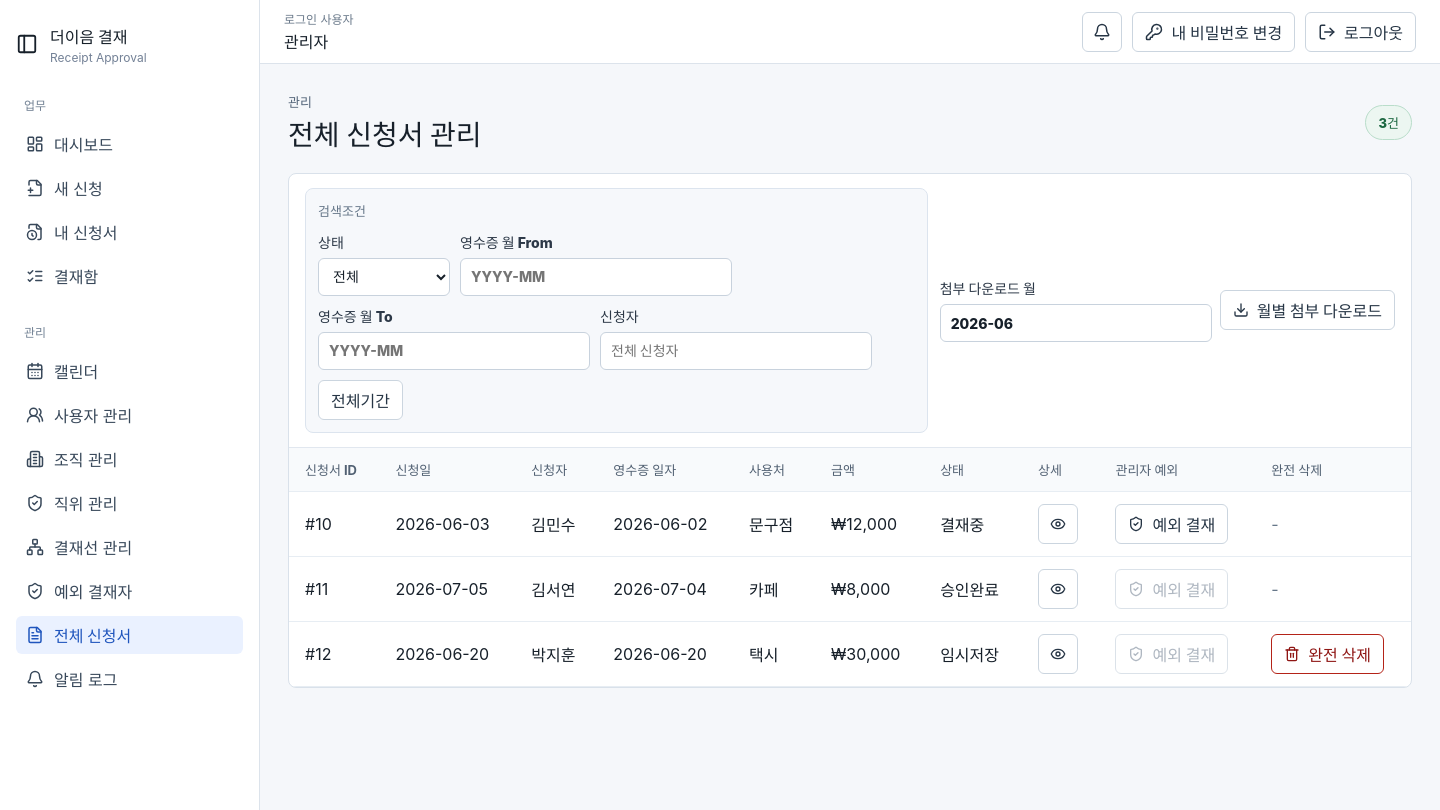
Scenario: AdminApplicationsPage › 전체 신청서를 영수증 월 범위와 신청자별로 필터링한다
This screenshot has width=1440, height=810.
Expected: the element "검색조건" is shown, [318,203,366,219]
Expected: the text "문구점" is shown, [733,491,815,556]
In the field labelled "영수증 월 From": [596, 277] box [460,258,732,296], type "20260699"
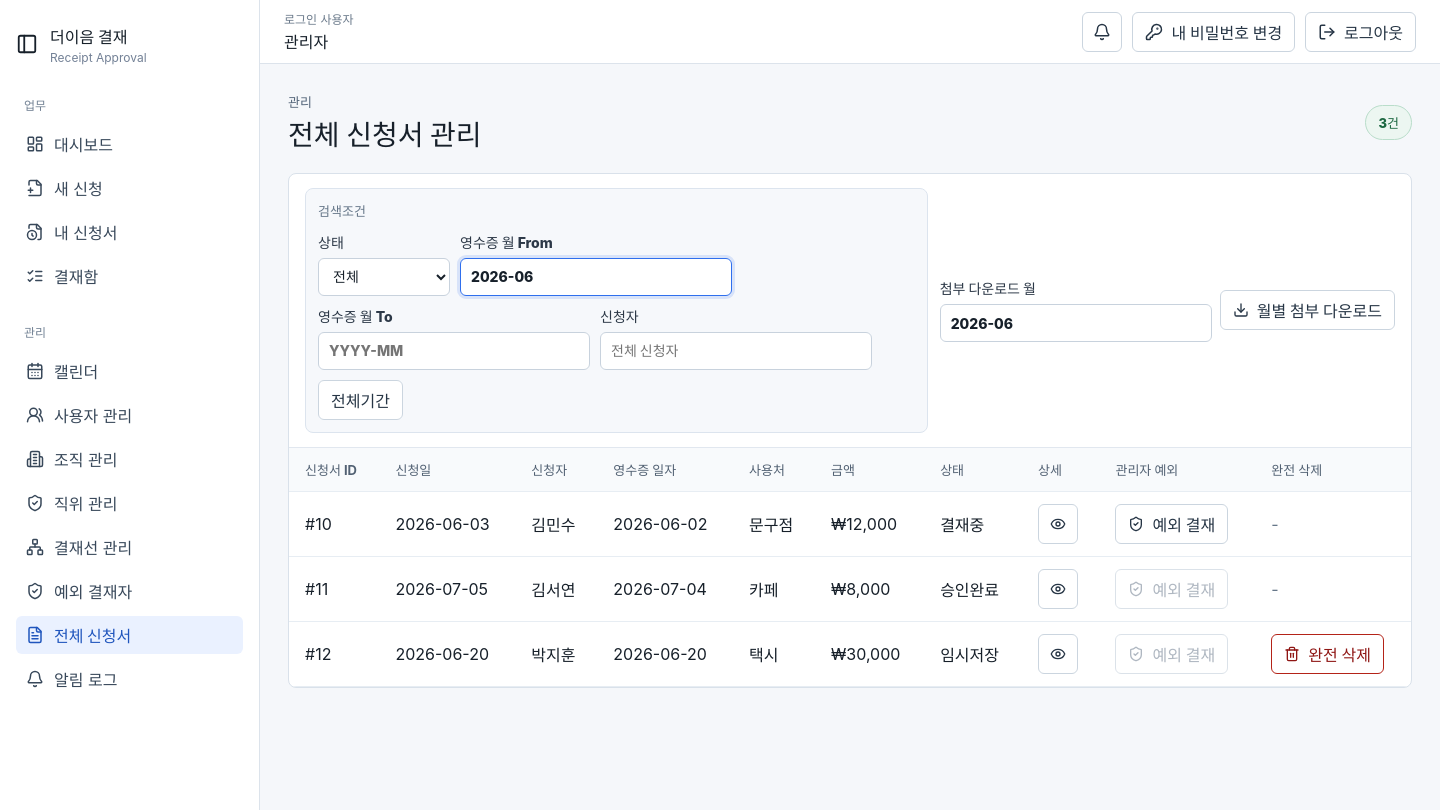
In the field labelled "영수증 월 To": [454, 351] box [318,332,590,370], type "202606"
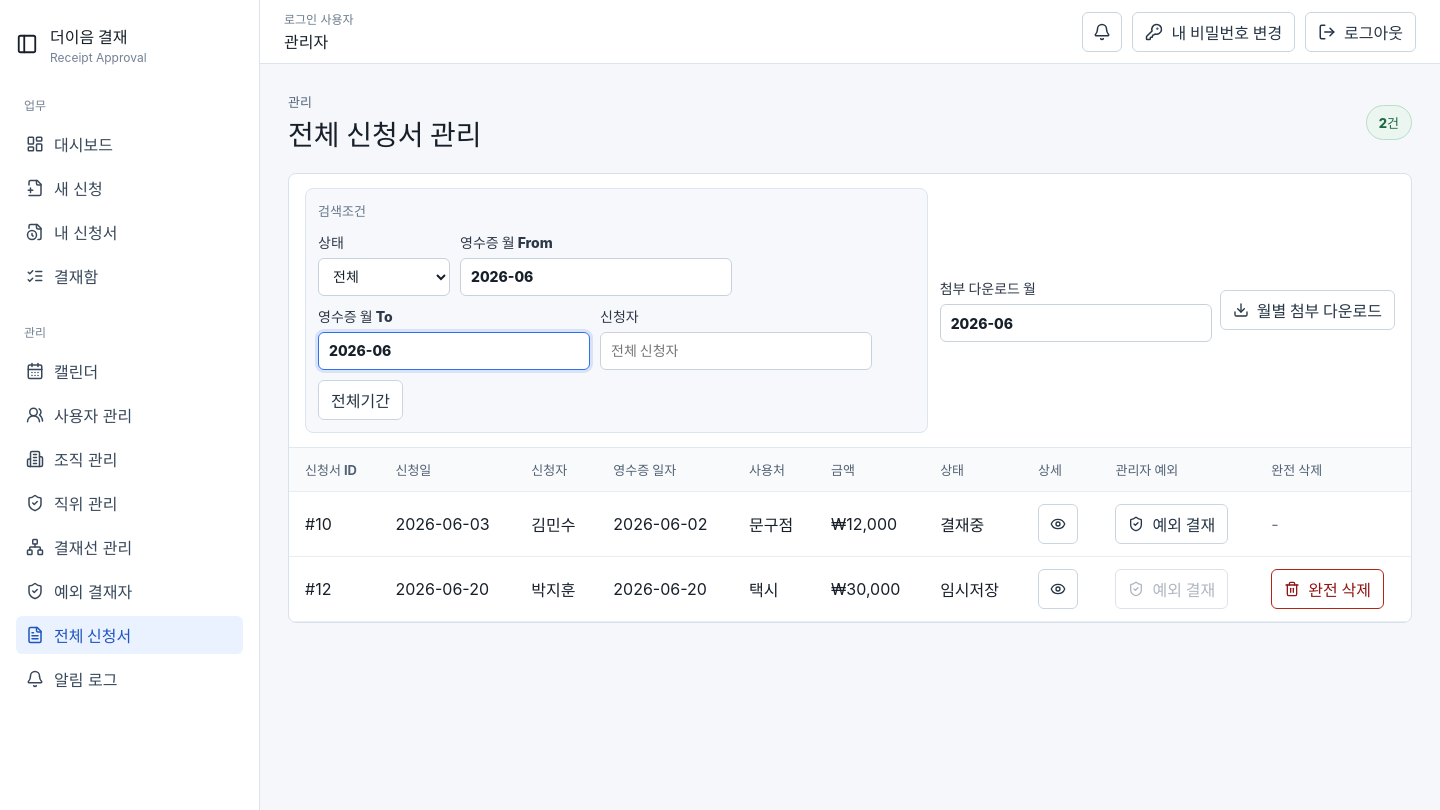
Now the field labelled "영수증 월 From" holds "2026-06", box [460,258,732,296]
Now the field labelled "영수증 월 To" holds "2026-06", box [318,332,590,370]
Now the text "카페" is gone
In the field labelled "신청자": [736, 351] box [600,332,872,370], type "김"
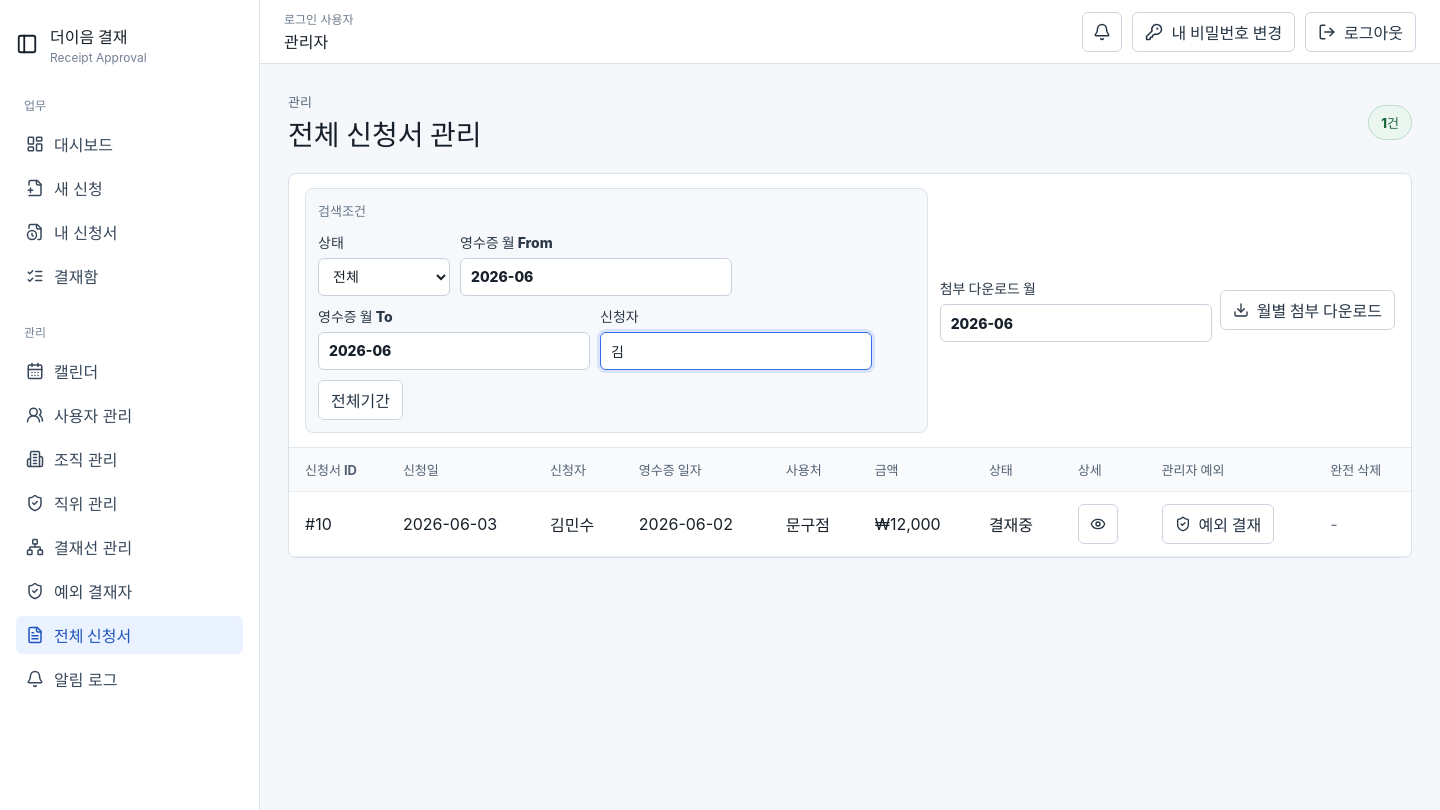
Expected: the text "문구점" is shown, [770,491,859,556]
Now the text "택시" is gone
Click the button "전체기간": [360, 400] box [318,380,403,420]
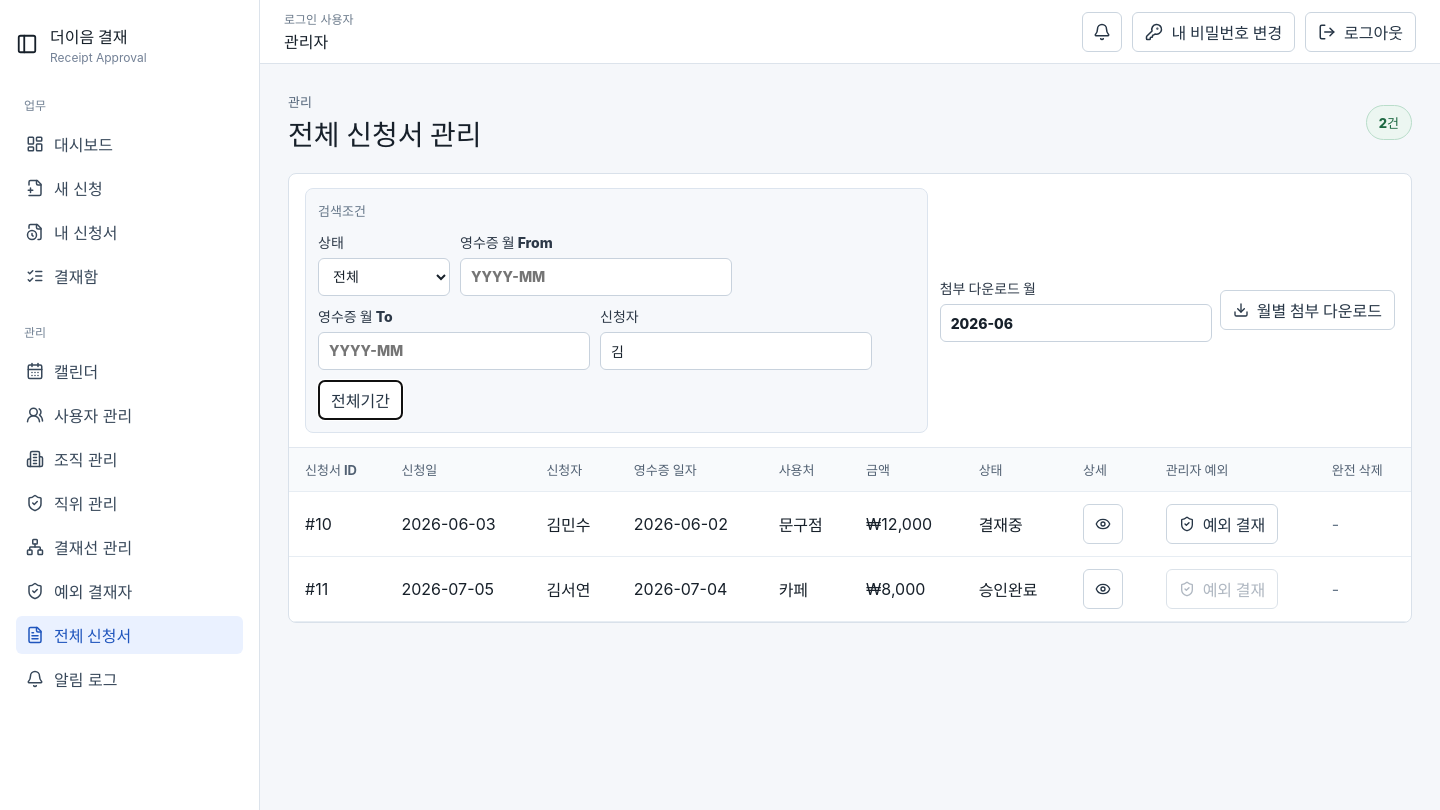
Expected: the text "문구점" is shown, [763,491,850,556]
Now the text "카페" is shown, box [763,556,850,621]
Clear the field labelled "신청자": [736, 351] box [600,332,872,370]
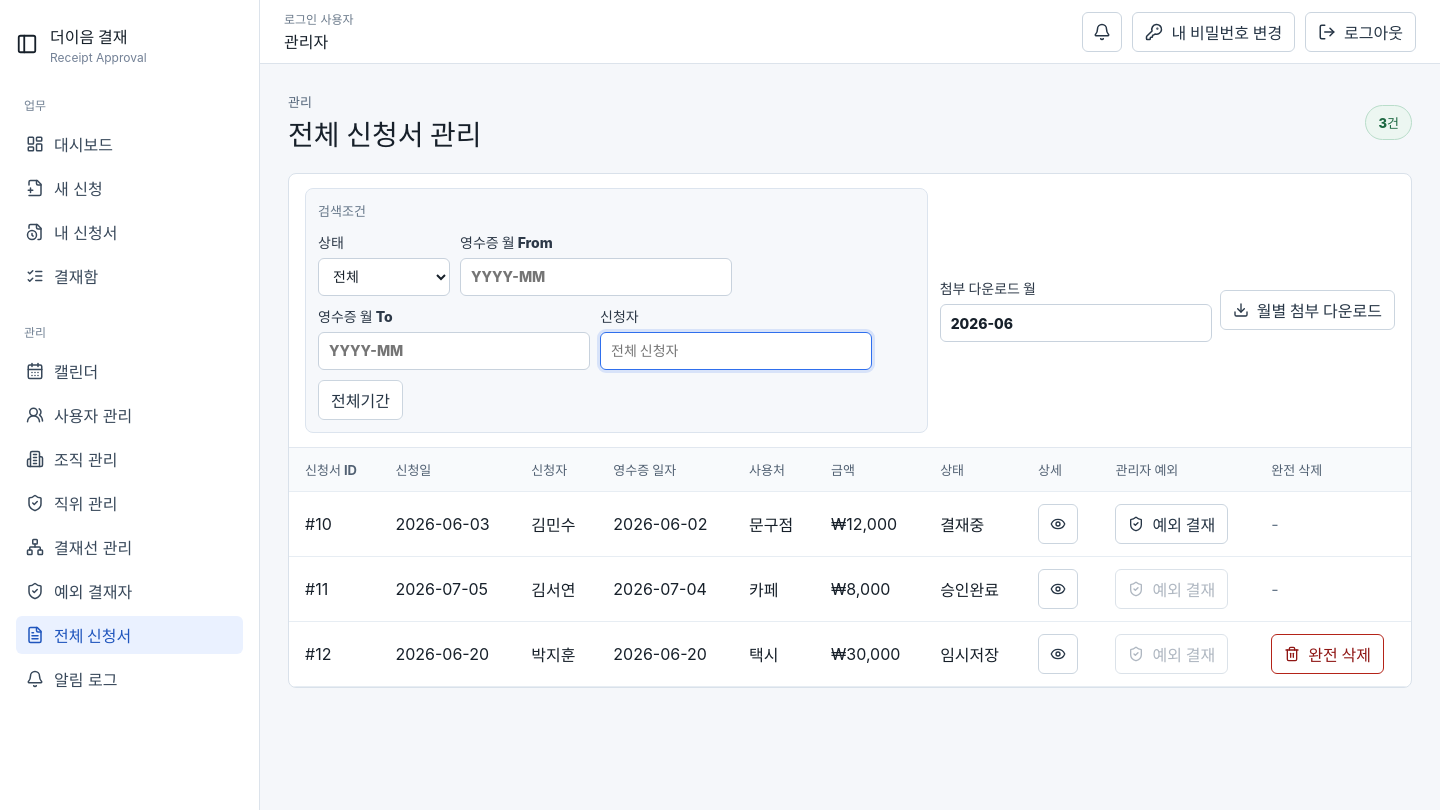
Now the text "택시" is shown, box [733,621,815,686]
